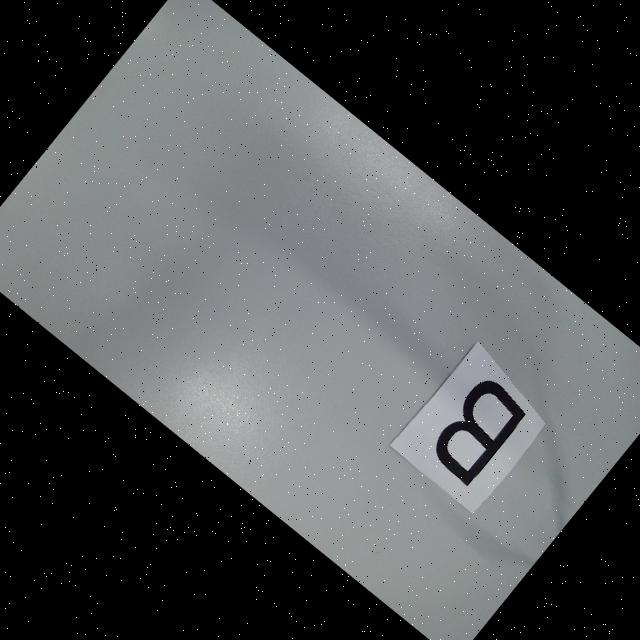FAKE: (421, 374, 531, 488)
